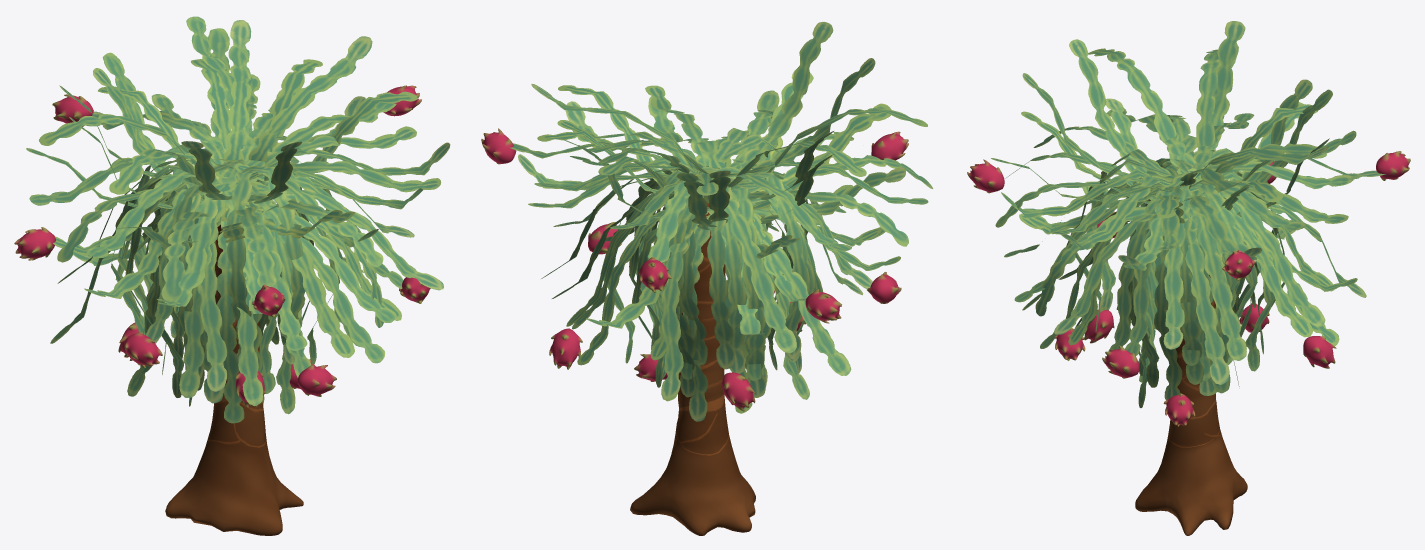
The model's file is Pitaya.fbx.
The picture shows the model from 3 angles, left to right: view 1: azimuth 30°, elevation 25°; view 2: azimuth 150°, elevation 25°; view 3: azimuth 270°, elevation 25°; orthographic projection. The views are drawn at different scales.
Visible parts, largest first — view 1: polySurface5, polySurface88, polySurface48, polySurface78, polySurface108, polySurface11, polySurface55, polySurface101, polySurface82, polySurface15, polySurface37, polySurface18 (+49 smaller); view 2: polySurface5, polySurface104, polySurface100, polySurface36, polySurface66, polySurface94, polySurface70, polySurface26, polySurface117, polySurface113, polySurface47, polySurface73 (+45 smaller); view 3: polySurface5, polySurface93, polySurface69, polySurface29, polySurface27, polySurface105, polySurface90, polySurface76, polySurface20, polySurface67, polySurface10, polySurface85 (+40 smaller).
Part boxes in pixels (x1,y1,x2,y2): polySurface5: (14,85,430,535); polySurface88: (248,36,372,161); polySurface48: (223,20,251,162); polySurface78: (250,182,354,357); polySurface108: (217,232,244,423); polySurface11: (197,217,226,391); polySurface55: (227,170,257,361); polySurface101: (300,237,385,363); polySurface82: (158,177,222,306); polySurface15: (242,166,305,364); polySurface37: (86,169,217,257); polySurface18: (259,200,396,322); polySurface5: (481,128,908,535); polySurface104: (695,169,796,353); polySurface100: (660,212,707,401); polySurface36: (739,22,833,167); polySurface66: (707,178,734,369); polySurface94: (760,231,851,375); polySurface70: (720,186,747,373); polySurface26: (753,172,809,359); polySurface117: (577,207,666,365); polySurface113: (683,227,710,421); polySurface47: (730,184,765,380); polySurface73: (707,189,908,246); polySurface5: (967,151,1410,535); polySurface93: (1185,228,1229,384); polySurface69: (1185,189,1246,360); polySurface29: (1182,172,1325,326); polySurface27: (1163,210,1189,349); polySurface105: (1107,175,1184,368); polySurface90: (1200,192,1313,337); polySurface76: (1069,39,1147,172); polySurface20: (1088,48,1177,166); polySurface67: (1054,212,1154,334); polySurface10: (1195,21,1245,153); polySurface85: (1154,237,1182,399).
Size of the model in its own units: 19.94 by 21.55 by 20.52.
